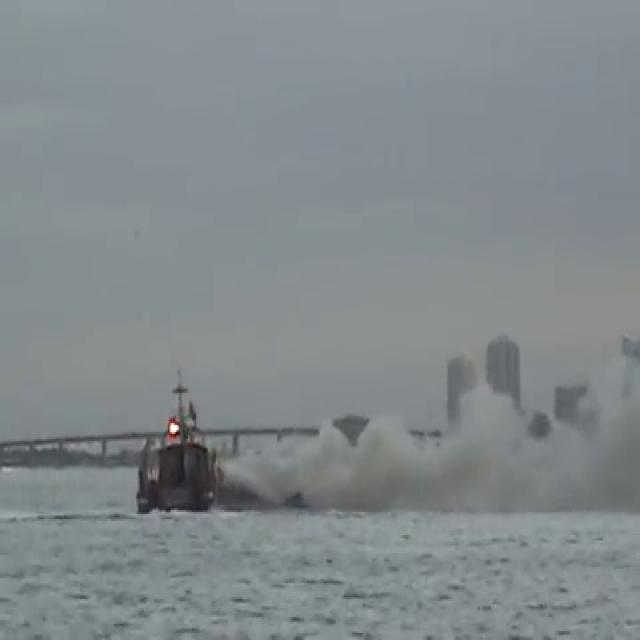Smoke: (253, 380, 640, 510)
